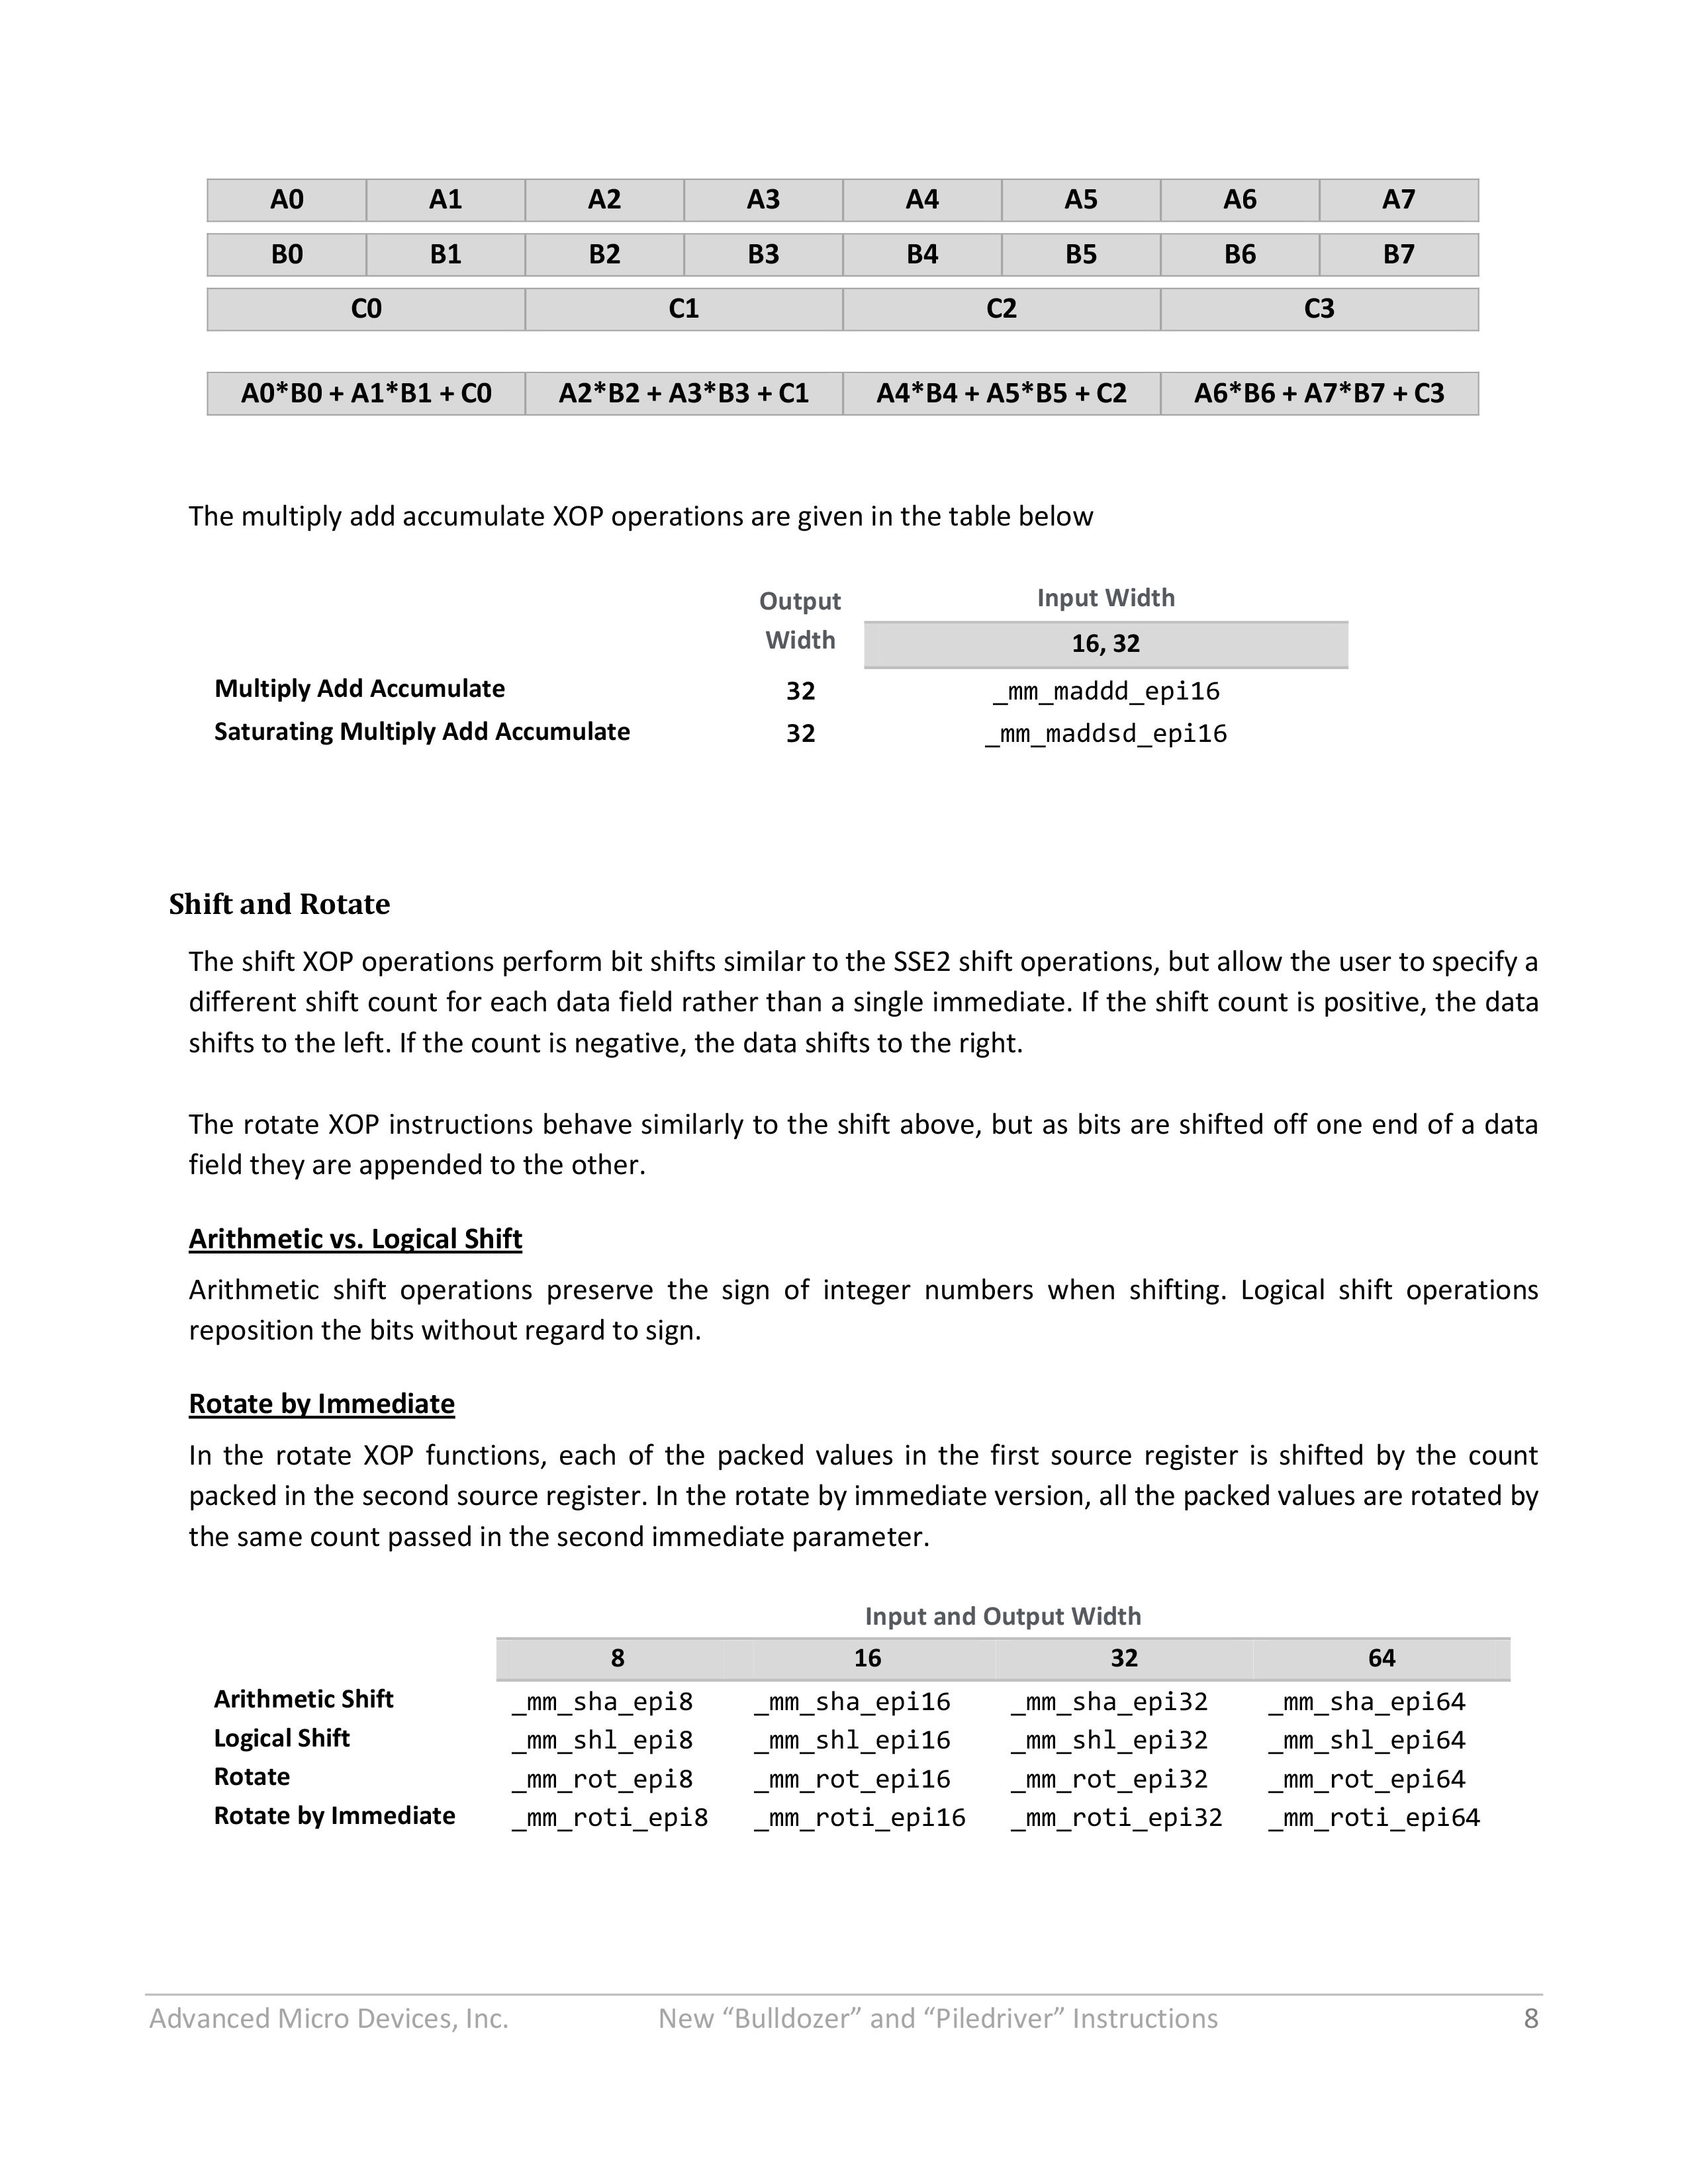section: (170, 1213, 527, 1275), (174, 1379, 482, 1432), (147, 869, 394, 925)
table: (190, 1595, 1525, 1847), (200, 167, 1505, 417), (200, 558, 1348, 759)
text: (156, 1434, 1541, 1567), (200, 945, 1532, 1065), (181, 1104, 1548, 1182), (160, 1269, 1551, 1342), (190, 496, 1105, 542)
